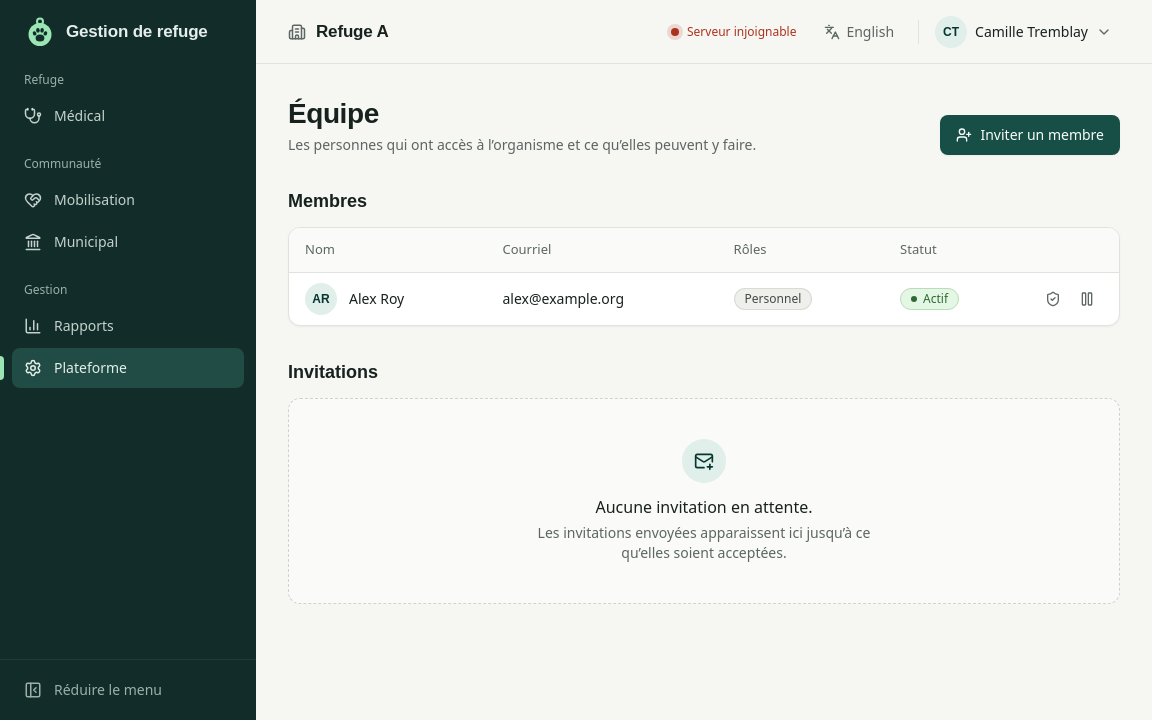
Scenario: forms › changes a member's roles in a dialog and confirms with a toast
This screenshot has width=1152, height=720.
Click the button named "Modifier les rôles de Alex Roy". click: coordinates (1053, 298)
box: [1037, 282, 1069, 314]
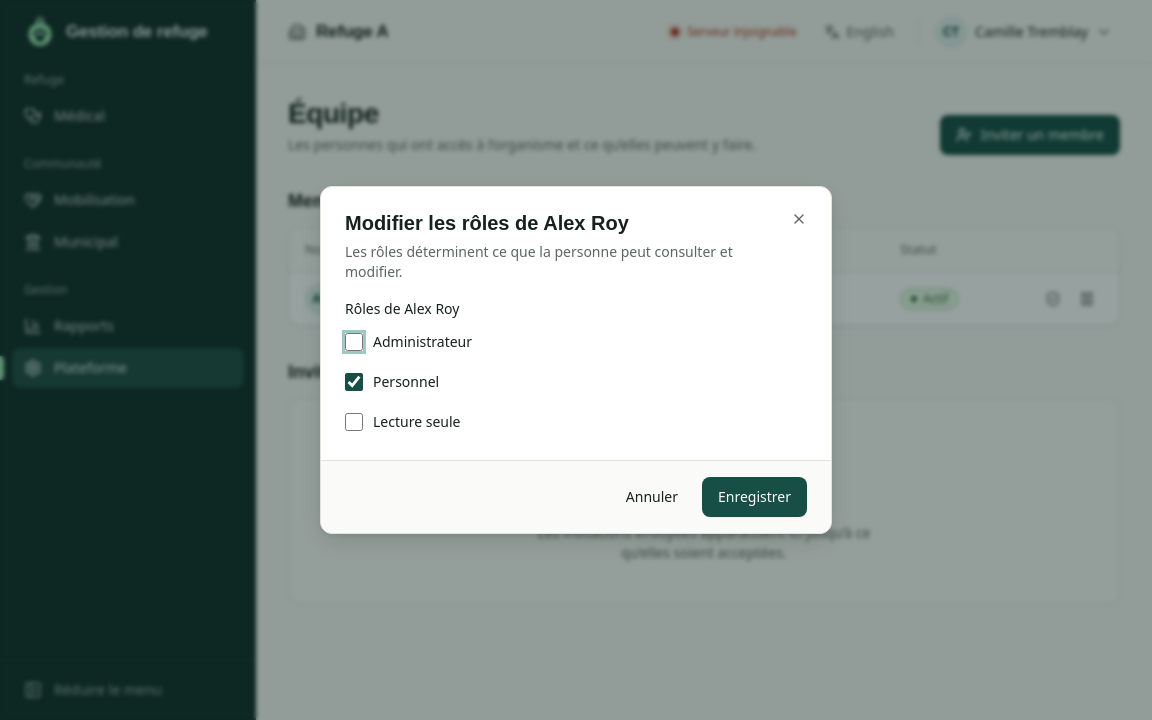
Click the checkbox labelled "Lecture seule". click: coordinates (354, 422)
box: [345, 413, 363, 431]
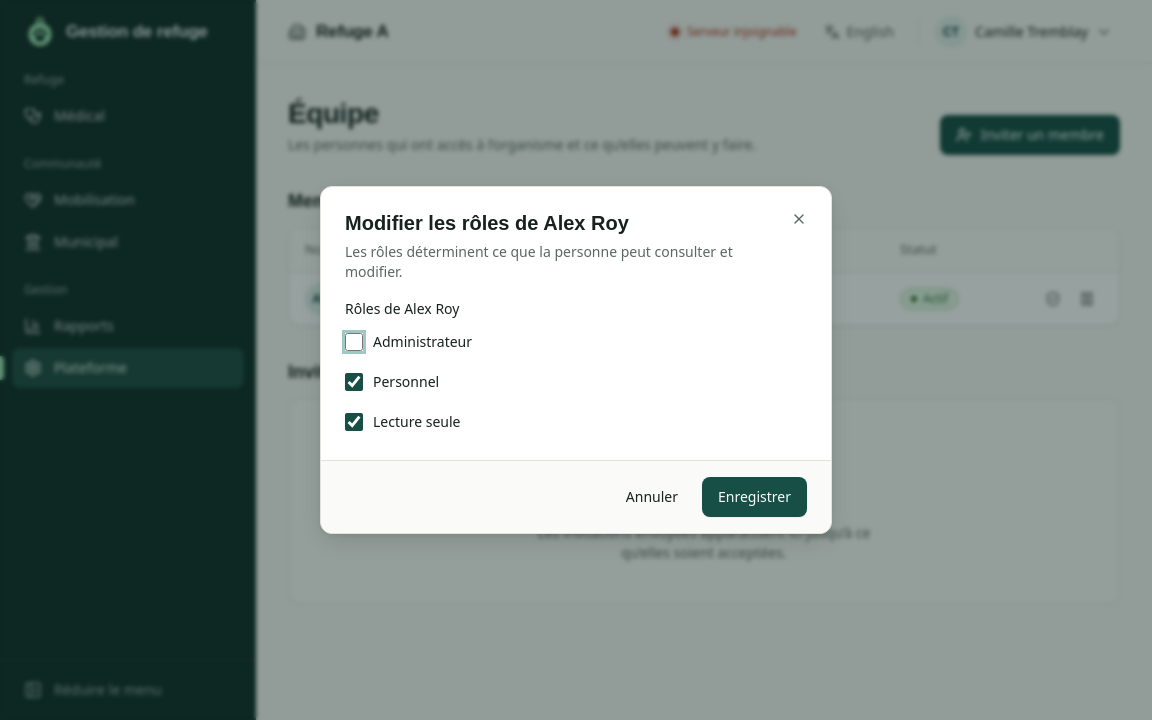
Click the button "Enregistrer". click: coordinates (754, 497)
box: [702, 477, 807, 517]
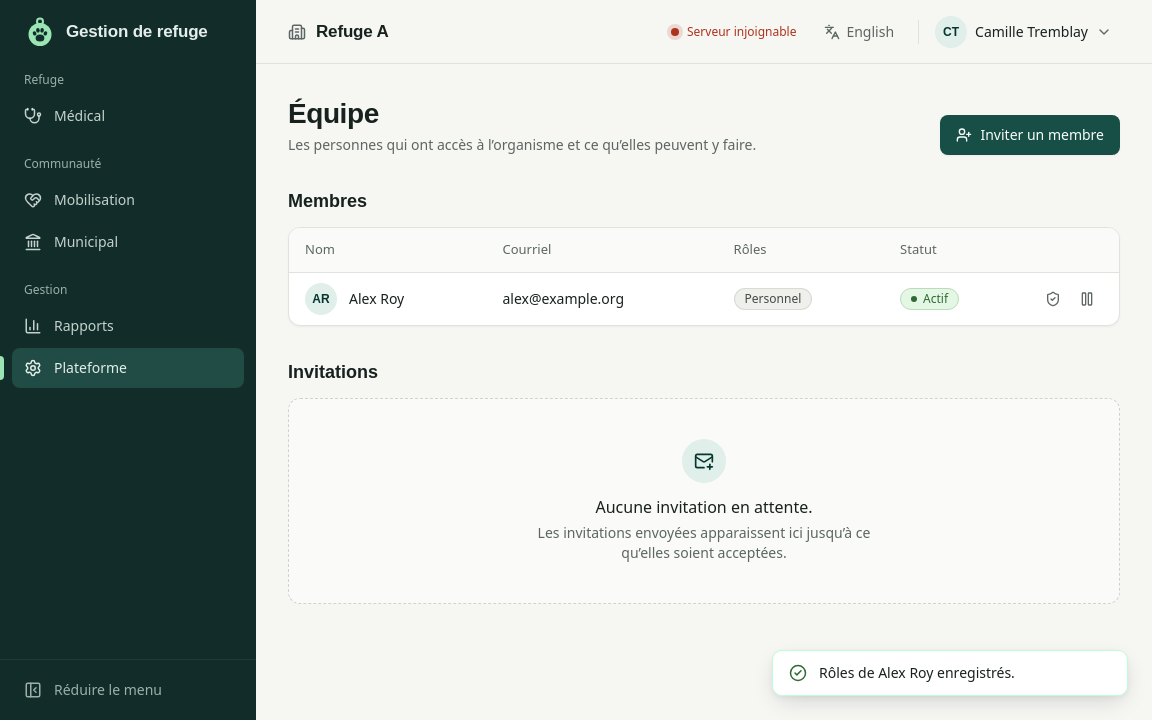
expect the text "Rôles de Alex Roy enregistrés." is shown: met, box [819, 663, 1015, 683]
expect the dialog is gone: met
